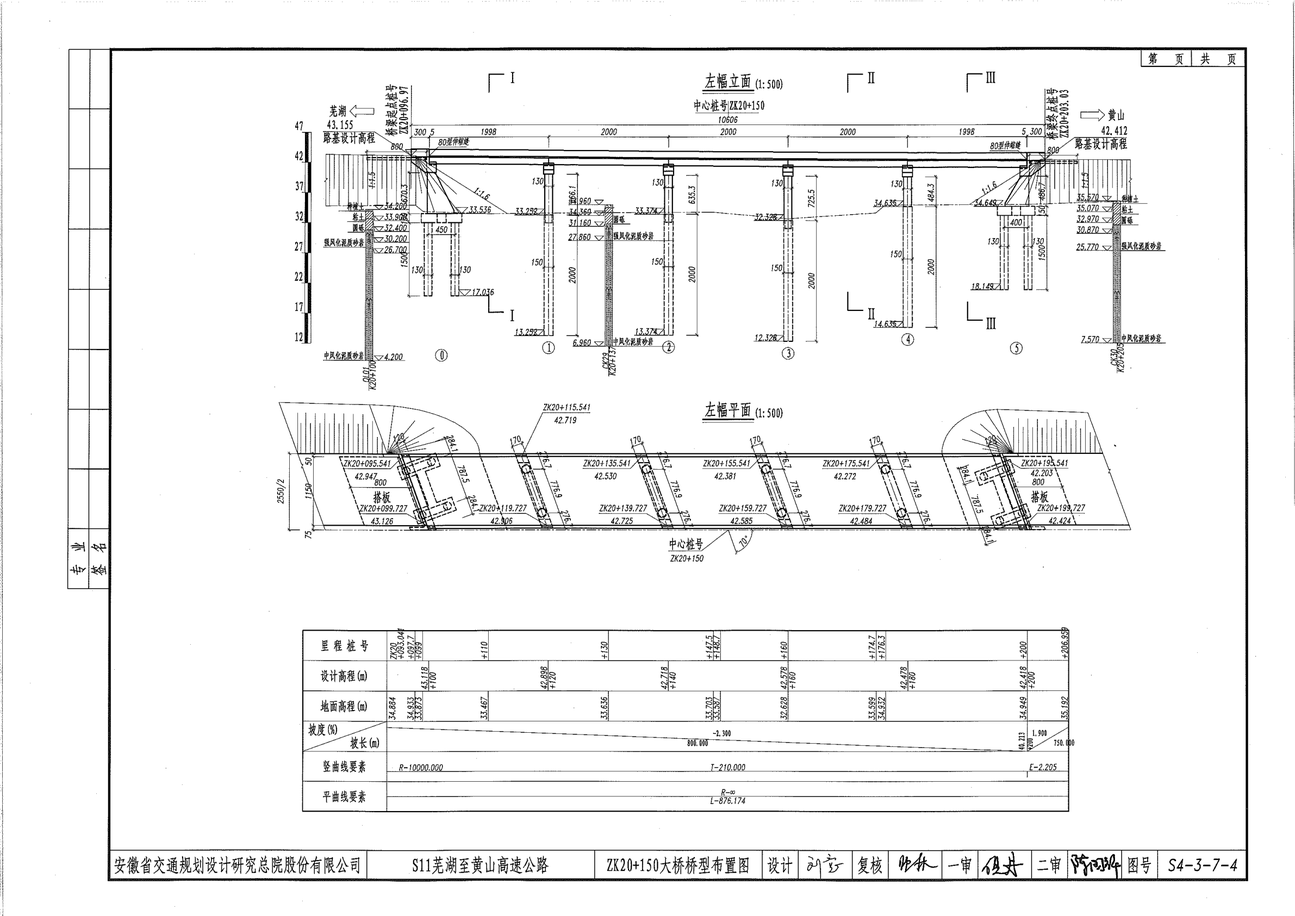A: (284, 64, 1207, 370)
